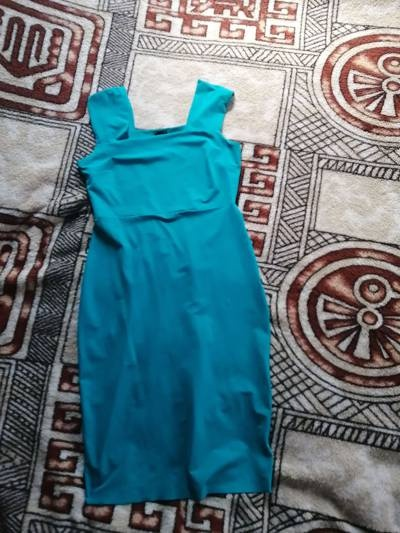Dress: (51, 74, 295, 501)
